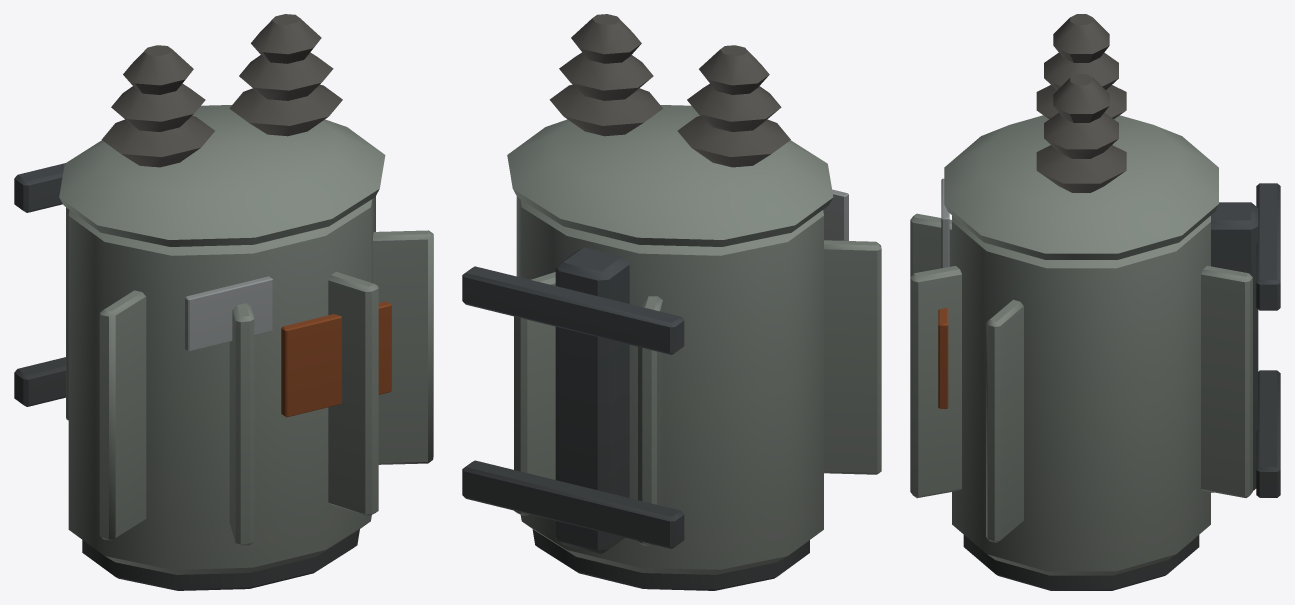
File: 11_transformateur.fbx
3 views of the same model, side by side, from view 1: azimuth 30°, elevation 25°; view 2: azimuth 150°, elevation 25°; view 3: azimuth 270°, elevation 25° (orthographic). The views are drawn at different scales.
Visible parts, largest first — view 1: Transformateur; view 2: Transformateur; view 3: Transformateur.
Part boxes in pixels (x1,y1,x2,y2): Transformateur: [14, 14, 433, 590]; Transformateur: [462, 14, 881, 590]; Transformateur: [910, 14, 1280, 590].
Bounding box in the file's own units: 0.504 × 0.728 × 0.504.
Materials: 1 (1 with a texture image).
